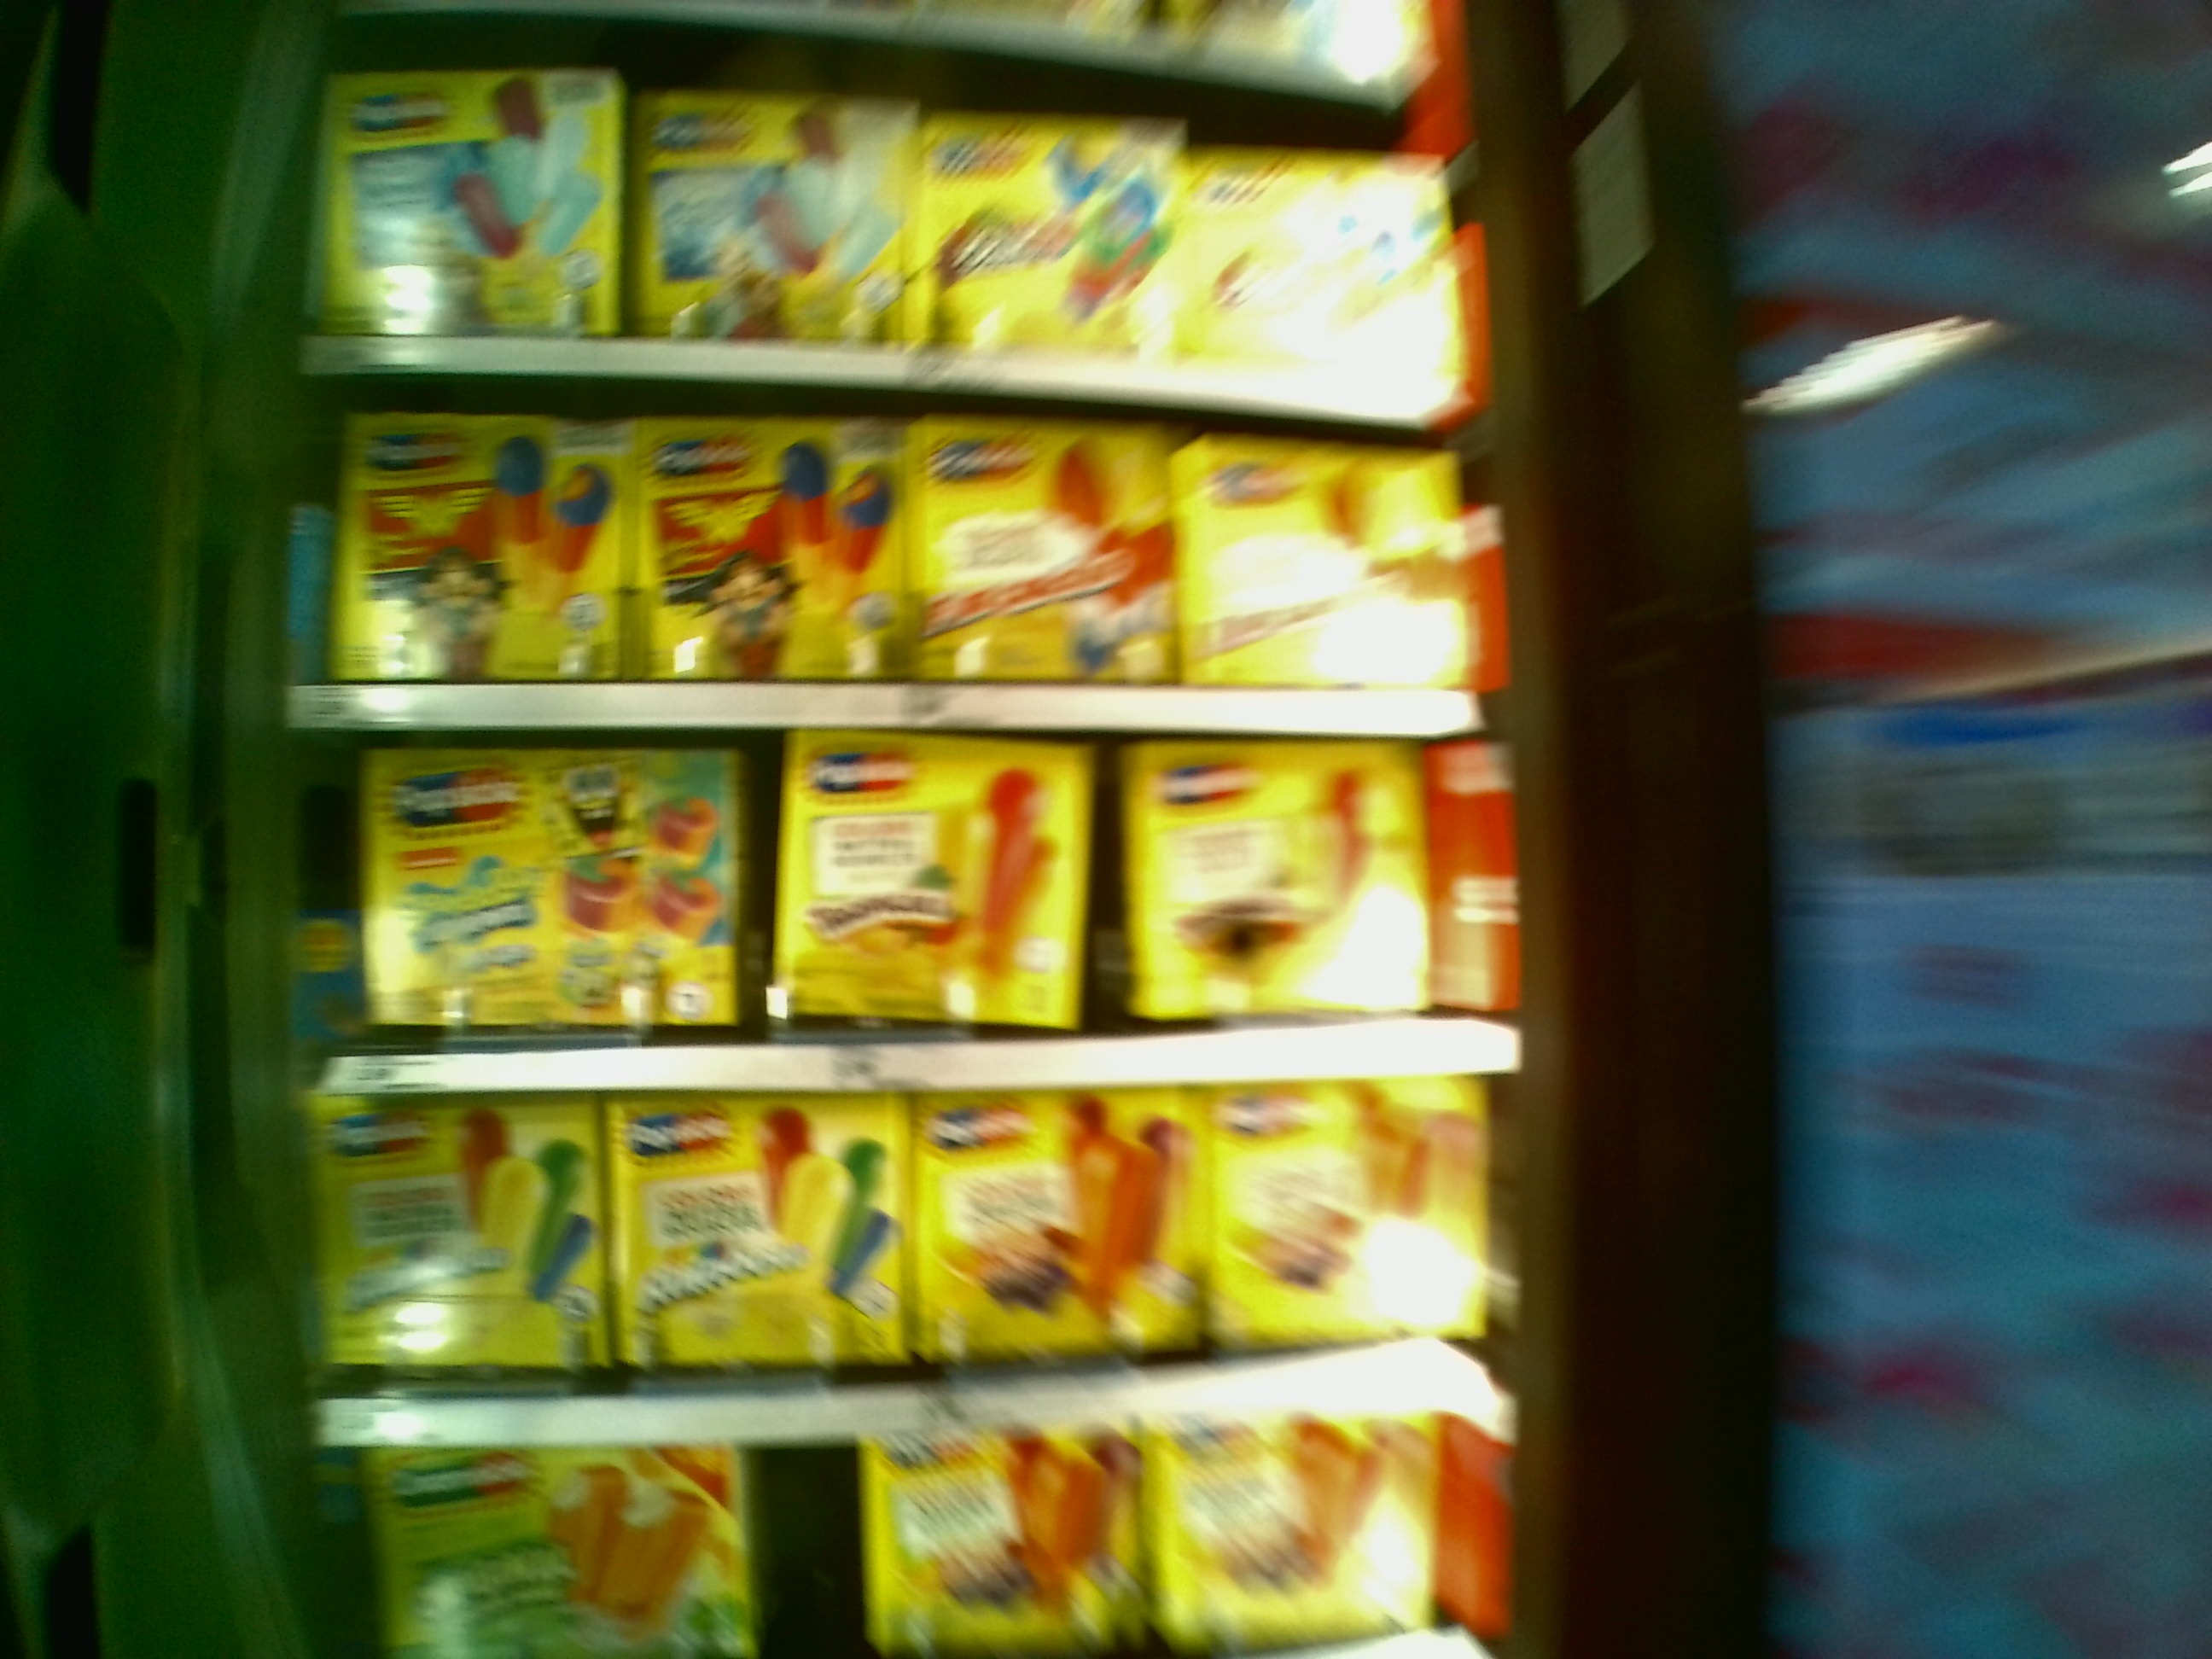shelf: (324, 19, 1470, 427), (300, 389, 1465, 753), (310, 1101, 1479, 1443), (307, 758, 1514, 1087)
